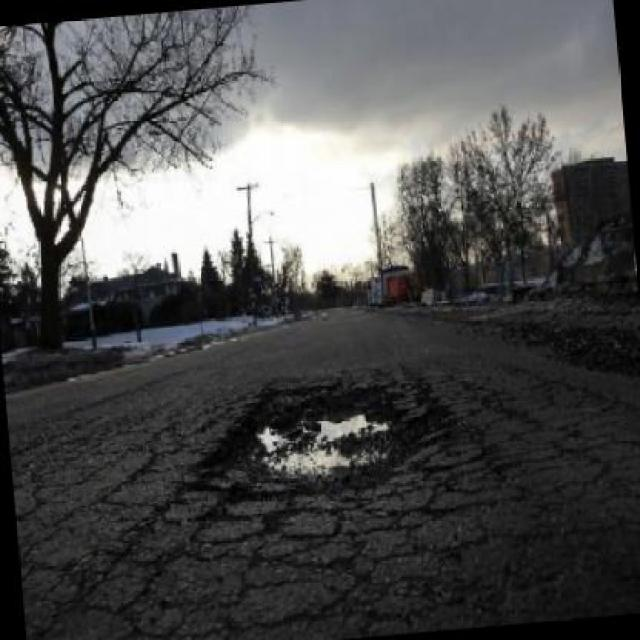pothole1: (195, 373, 432, 505)
